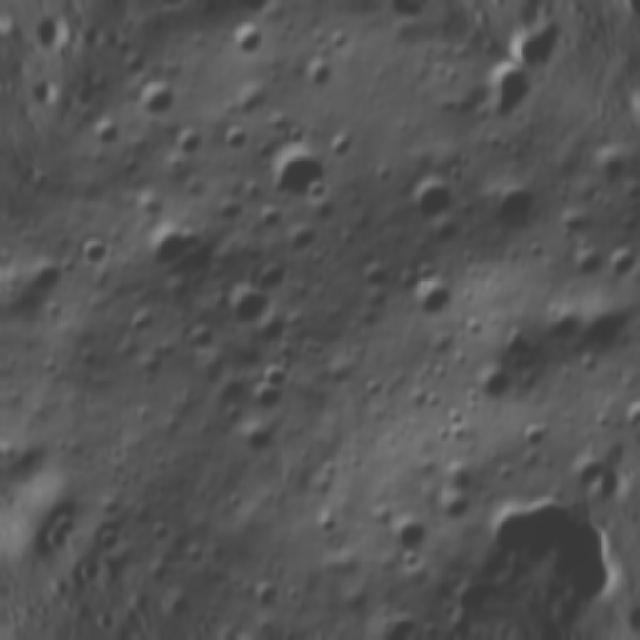crater: (460, 51, 554, 138), (250, 135, 338, 223), (127, 208, 208, 289), (478, 173, 545, 244), (394, 169, 464, 236), (212, 277, 276, 341), (243, 298, 305, 360), (6, 247, 66, 310), (462, 352, 522, 412), (549, 442, 608, 502), (227, 409, 285, 466), (403, 274, 457, 335), (125, 68, 182, 125), (359, 598, 435, 640), (377, 508, 432, 562), (288, 46, 342, 100), (555, 238, 608, 293), (223, 75, 275, 127), (239, 571, 290, 623), (76, 104, 126, 156), (542, 199, 592, 250), (242, 252, 292, 302), (584, 142, 633, 193), (242, 374, 290, 424), (218, 16, 265, 64), (161, 119, 208, 164), (64, 227, 108, 275), (512, 412, 556, 459), (209, 117, 253, 161), (598, 243, 640, 289), (84, 521, 128, 564), (248, 355, 292, 397), (607, 386, 640, 435), (224, 0, 278, 28), (298, 172, 334, 210), (592, 434, 622, 475), (320, 26, 354, 60), (47, 510, 81, 542), (575, 470, 602, 510), (143, 0, 199, 18)
